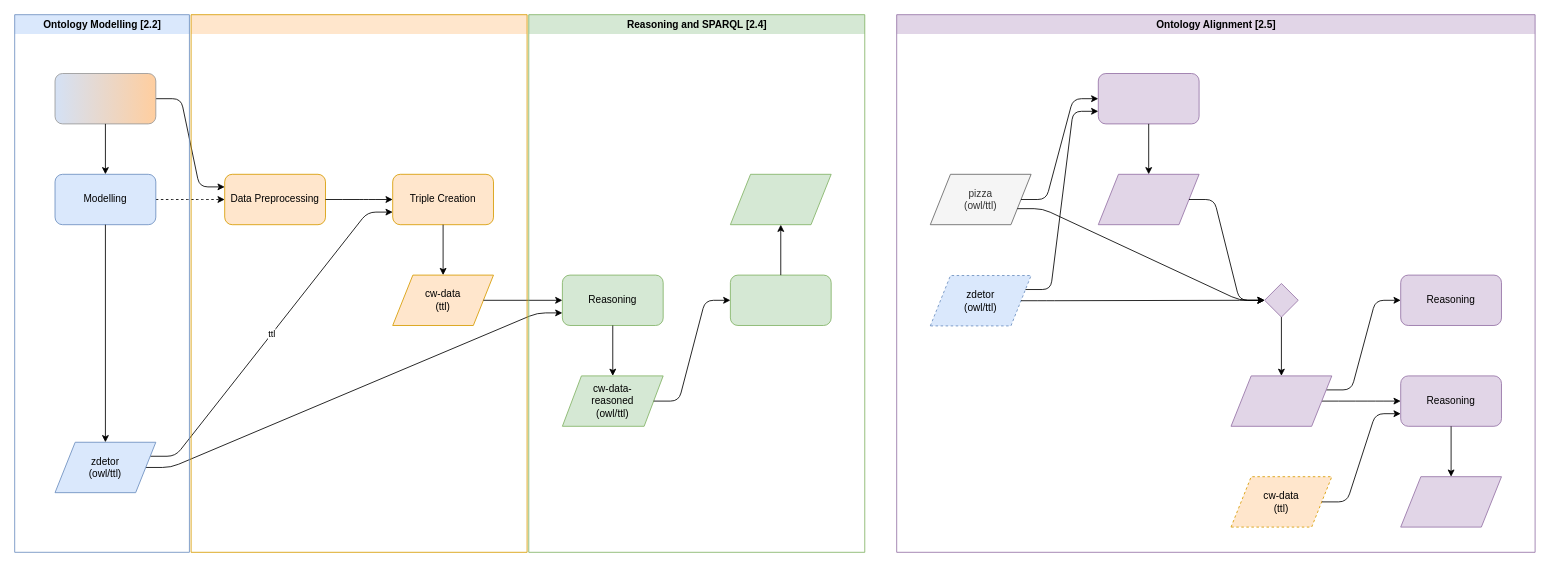
The diagram is 1550 pixels wide and 567 high, and some of its shapes have lost their labels. Each missing label, with the centre of its shape:
Align Ontologies: (1148,98)
EDA: (105,98)
Execute SPARQL: (780,300)
pizza-zdetor-alignment (owl/ttl): (1148,199)
Results.csv: (780,199)
Tabular Data to Knowledge Graph [2.3]: (358,283)
zdetor-pizza-alignment-data-reasoned: (1451,501)
zdetor-pizza-alignment-unreasoned: (1281,400)
